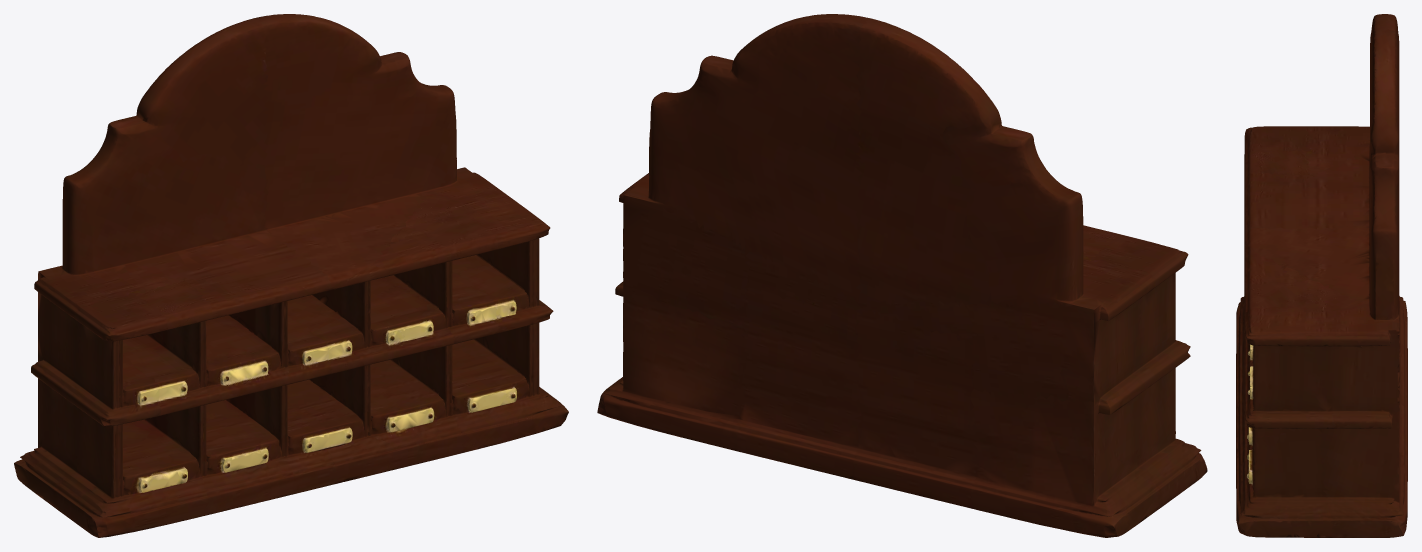
File: trophy.glb
3 renders of one model, left to right at view 1: azimuth 30°, elevation 25°; view 2: azimuth 150°, elevation 25°; view 3: azimuth 270°, elevation 25°, orthographic. The views are drawn at different scales.
Parts seen in each view (by area): view 1: Mesh_0; view 2: Mesh_0; view 3: Mesh_0.
Part boxes in pixels (x1,y1,x2,y2): Mesh_0: (14, 14, 568, 537); Mesh_0: (597, 14, 1207, 537); Mesh_0: (1236, 14, 1407, 537).
Size of the model in its own units: 1.81 by 1.5 by 0.5877.
Materials: 1 (1 with a texture image).
